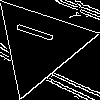I: (15, 19, 64, 48)
